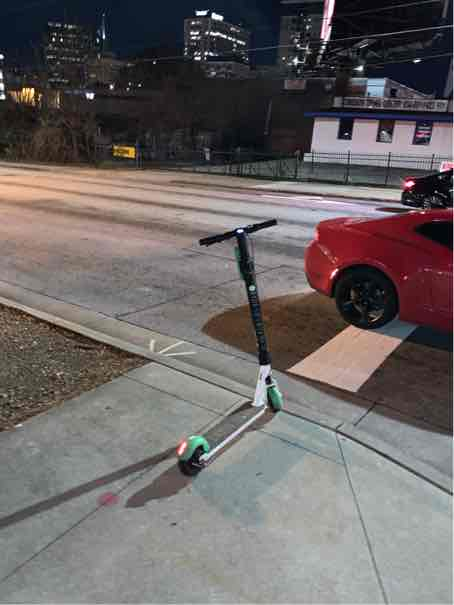too close: (247, 368, 297, 422)
